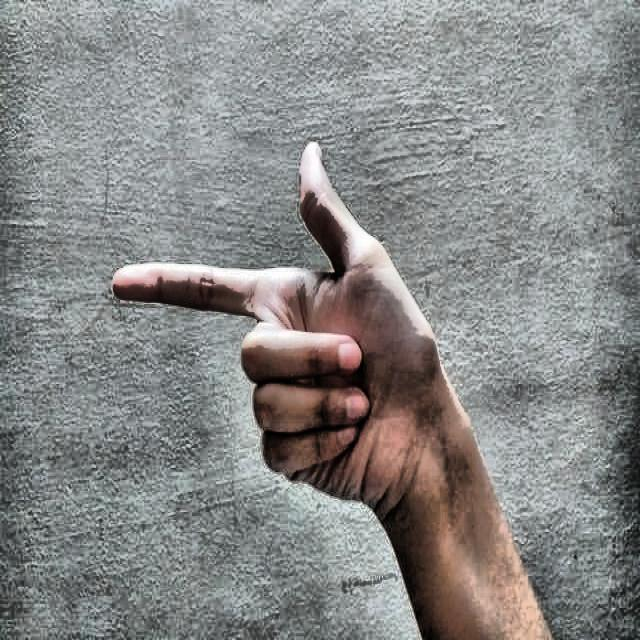Tho: (84, 100, 533, 538)
